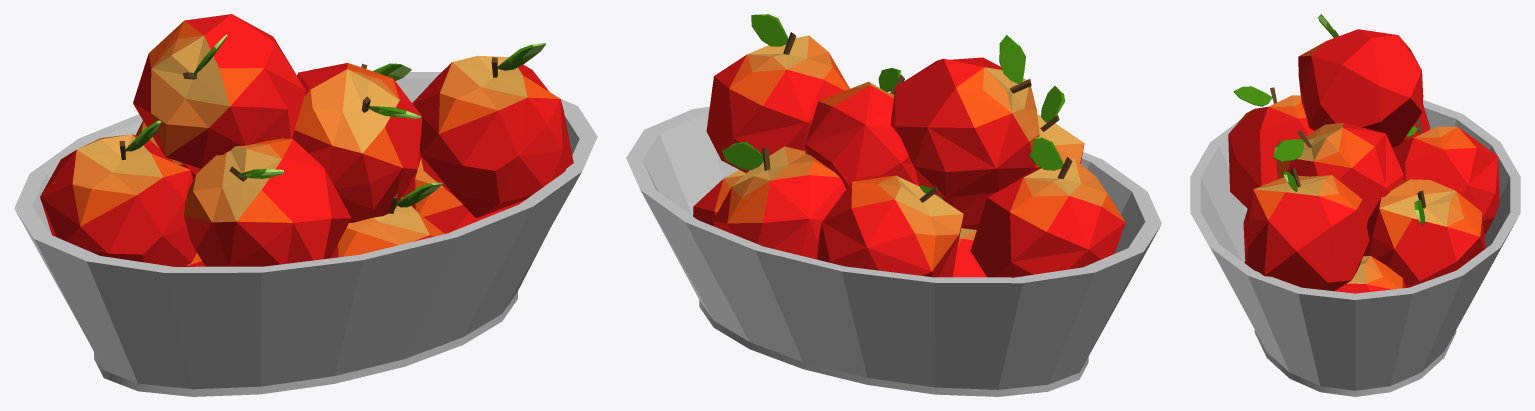
Rendered from f11_massApple.FBX.
The picture shows the model from 3 angles, left to right: view 1: azimuth 30°, elevation 25°; view 2: azimuth 150°, elevation 25°; view 3: azimuth 270°, elevation 25°; orthographic projection. The views are drawn at different scales.
Parts seen in each view (by area): view 1: Cylinder001, Hedra010, Hedra009, Hedra007, Hedra004, Hedra008, Hedra002, Hedra003, Cylinder009, Cylinder002; view 2: Cylinder001, Hedra010, Hedra004, Hedra006, Hedra009, Hedra005, Hedra008, Hedra007, Hedra003, Hedra001, Cylinder010, Cylinder009 (+3 smaller); view 3: Cylinder001, Hedra009, Hedra010, Hedra005, Hedra008, Hedra006, Hedra007, Hedra003, Cylinder008, Cylinder007.
Part boxes in pixels (left/top/right/bottom): Cylinder001: left=14, top=72, right=597, bottom=396; Hedra010: left=133, top=14, right=305, bottom=171; Hedra009: left=412, top=55, right=573, bottom=218; Hedra007: left=184, top=138, right=351, bottom=266; Hedra004: left=40, top=134, right=196, bottom=266; Hedra008: left=292, top=63, right=421, bottom=222; Hedra002: left=330, top=197, right=444, bottom=258; Hedra003: left=402, top=151, right=525, bottom=233; Cylinder009: left=497, top=43, right=545, bottom=70; Cylinder002: left=396, top=182, right=442, bottom=207; Cylinder001: left=626, top=106, right=1161, bottom=396; Hedra010: left=890, top=57, right=1039, bottom=197; Hedra004: left=970, top=159, right=1125, bottom=277; Hedra006: left=816, top=175, right=963, bottom=277; Hedra009: left=706, top=35, right=849, bottom=172; Hedra005: left=712, top=146, right=846, bottom=259; Hedra008: left=805, top=81, right=936, bottom=195; Hedra007: left=940, top=114, right=1084, bottom=229; Hedra003: left=693, top=170, right=745, bottom=226; Hedra001: left=953, top=228, right=986, bottom=277; Cylinder010: left=999, top=35, right=1025, bottom=83; Cylinder009: left=751, top=14, right=788, bottom=46; Cylinder001: left=1190, top=99, right=1520, bottom=396; Hedra009: left=1243, top=175, right=1369, bottom=291; Hedra010: left=1298, top=29, right=1423, bottom=147; Hedra005: left=1363, top=179, right=1485, bottom=287; Hedra008: left=1276, top=123, right=1405, bottom=225; Hedra006: left=1392, top=126, right=1499, bottom=235; Hedra007: left=1228, top=95, right=1314, bottom=208; Hedra003: left=1334, top=256, right=1406, bottom=293; Cylinder008: left=1273, top=139, right=1303, bottom=161; Cylinder007: left=1233, top=86, right=1272, bottom=106.
Bounding box in the file's own units: 273 × 161 × 181.
